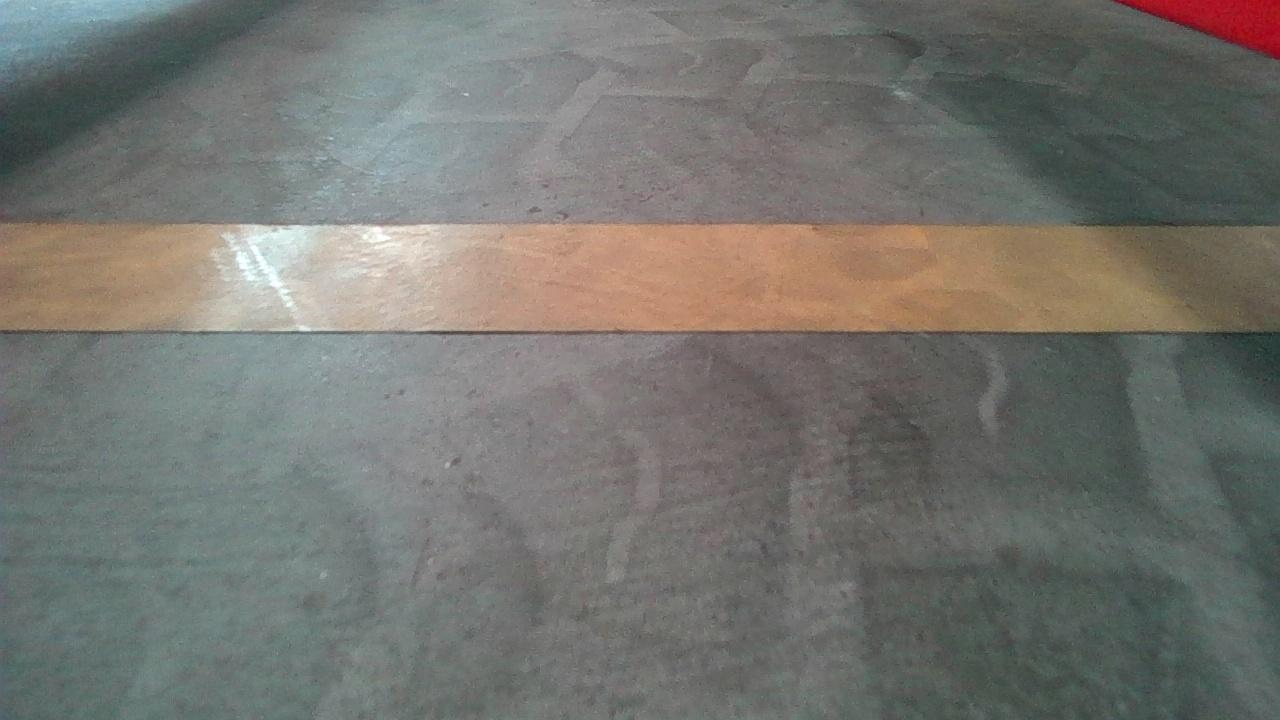yellow_line: (2, 212, 1273, 343)
